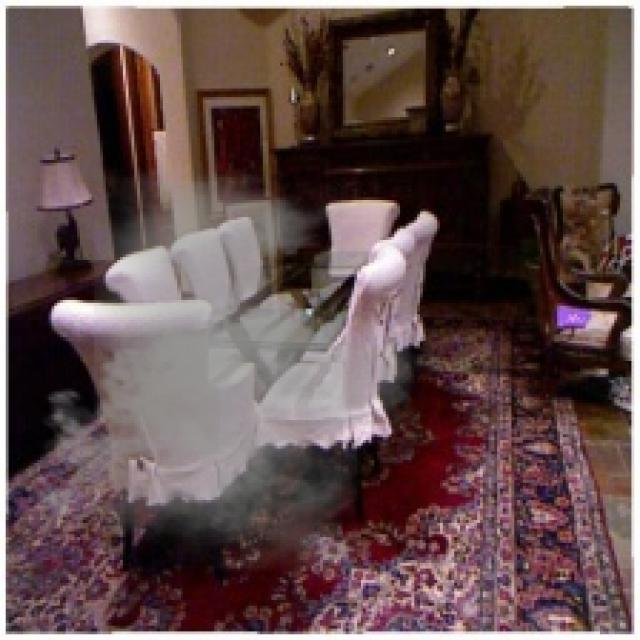smoke: (20, 168, 431, 572)
